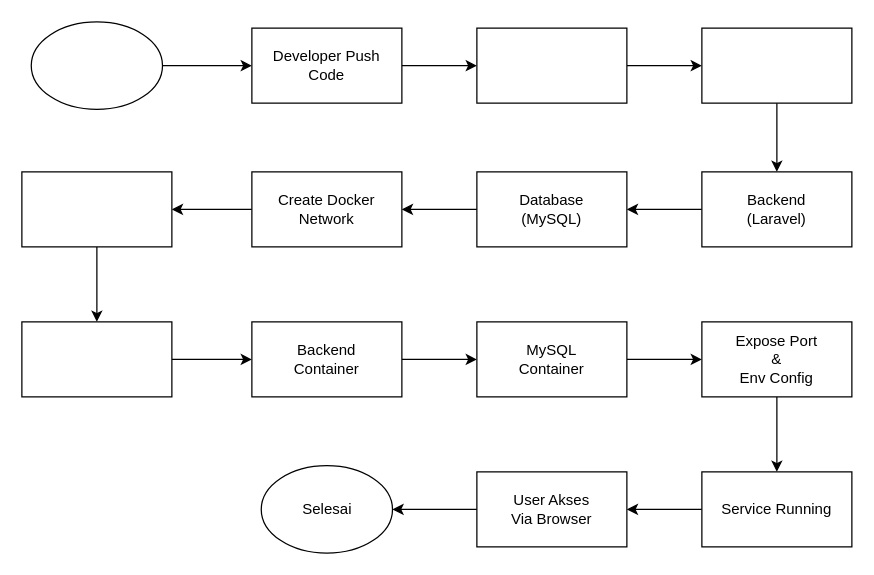
Image size: 874x575. Some labels were removed from this diagram. Here are the shapes that lost their labels. From the top down, the box of each, then its label:
(30, 21, 162, 109): Mulai
(476, 27, 627, 103): Build Docker Image
(701, 27, 852, 103): Frontend (Next.js)
(21, 171, 172, 247): Run Containers
(21, 321, 172, 397): Frontend Container
